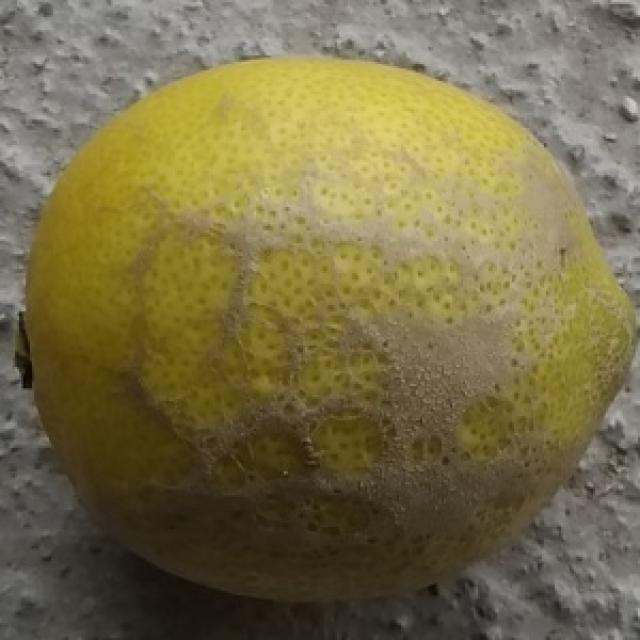overripe: (10, 51, 640, 605)
